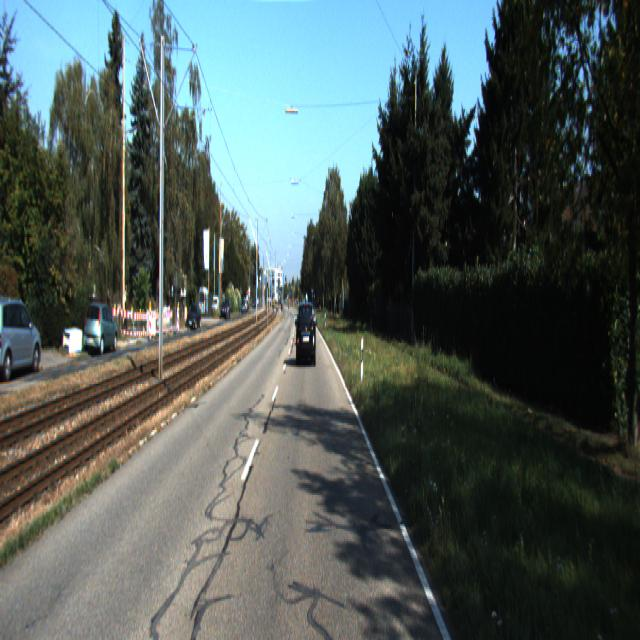Car: (0, 289, 42, 378), (84, 301, 120, 356), (296, 300, 316, 367), (186, 303, 202, 330)
